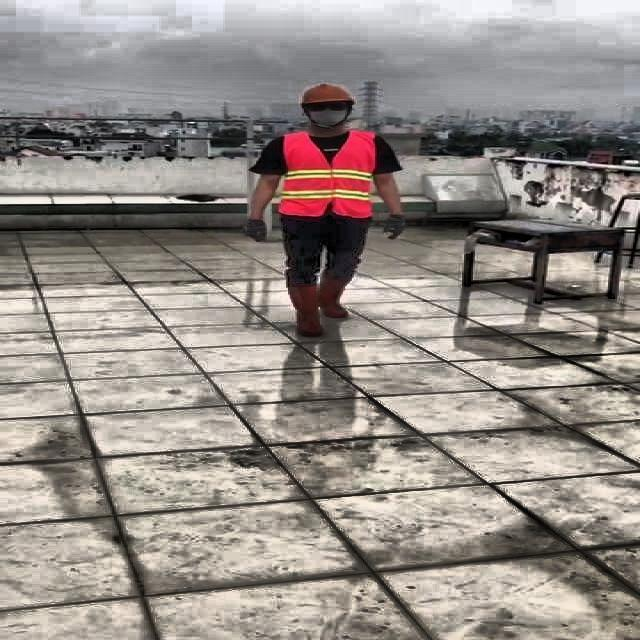safety_helmet: (298, 83, 355, 104)
safety_jacket: (279, 130, 375, 220)
